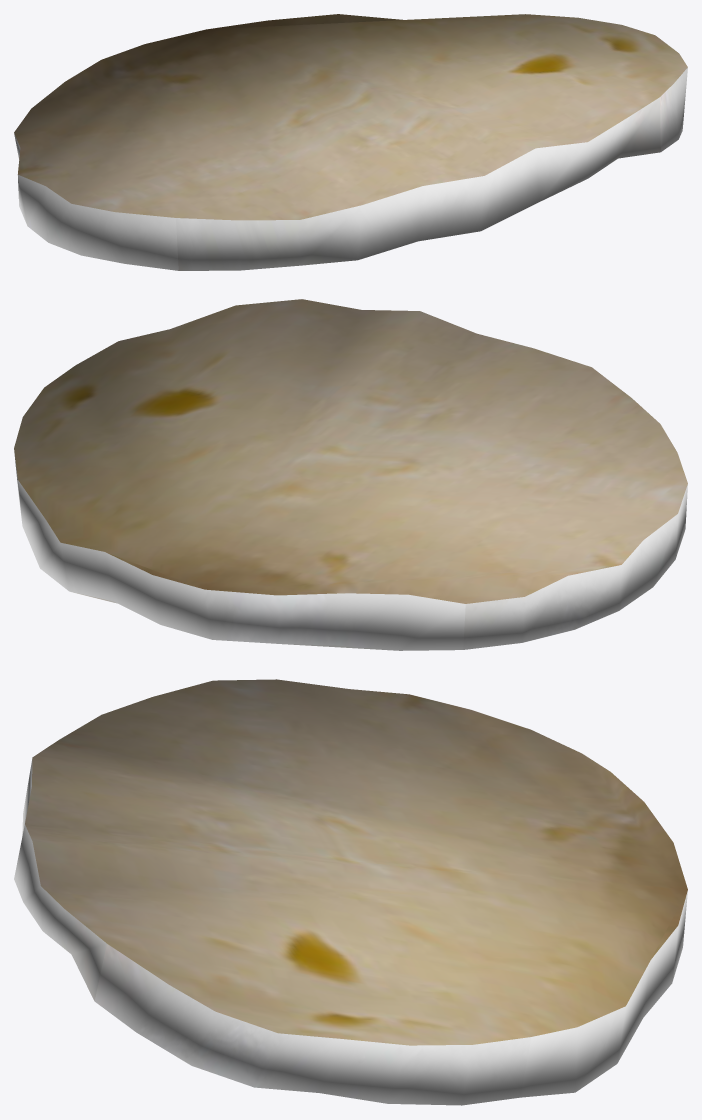
The model's file is mozzarella.fbx.
3 views of the same model, one above another, from view 1: azimuth 30°, elevation 25°; view 2: azimuth 150°, elevation 25°; view 3: azimuth 270°, elevation 25° (orthographic). The views are drawn at different scales.
Parts seen in each view (by area): view 1: mozzarella; view 2: mozzarella; view 3: mozzarella.
Part boxes in pixels (bbox=[...]): mozzarella: bbox=[14, 14, 687, 270]; mozzarella: bbox=[14, 299, 687, 650]; mozzarella: bbox=[14, 679, 687, 1105].
Bounding box in the file's own units: 8.99 × 1.86 × 7.16.
1 material, 1 textured.
